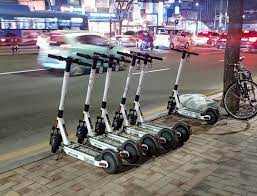kick_board: (167, 48, 216, 124)
kick_body: (174, 103, 203, 120)
kick_handler: (48, 54, 91, 71), (117, 51, 152, 65), (173, 47, 199, 59)
kick_neck: (56, 73, 70, 127), (81, 74, 96, 116), (119, 69, 133, 109), (100, 74, 112, 114), (172, 62, 184, 98)
kick_wheel: (101, 150, 121, 172), (122, 140, 141, 163), (140, 133, 159, 156), (159, 128, 176, 150), (176, 123, 192, 141), (47, 135, 62, 153), (206, 106, 218, 124), (77, 124, 86, 143)
